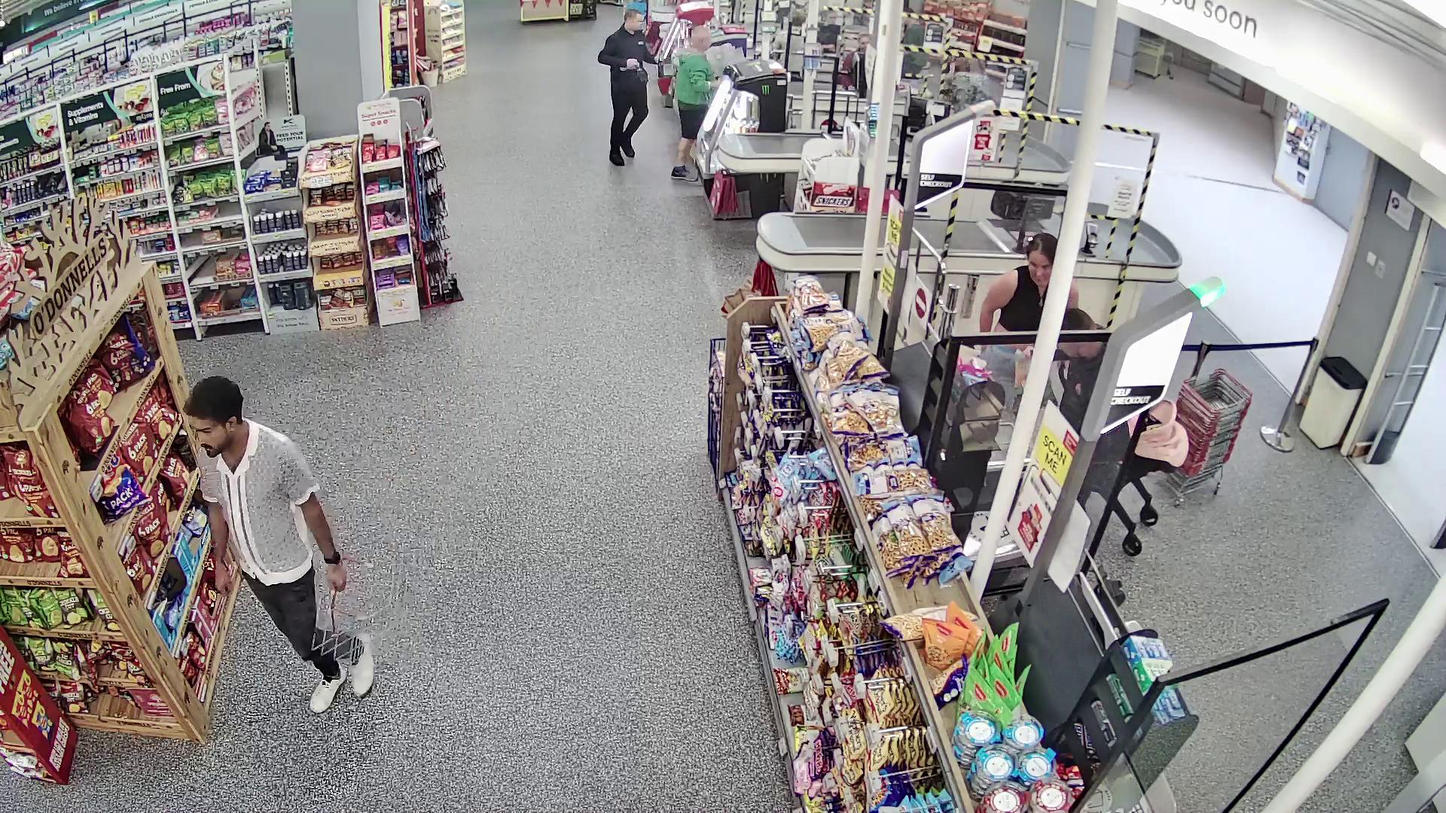empty-basket: (312, 560, 409, 664)
person: (183, 376, 375, 713)
person-with-empty-basket-trolly: (184, 375, 409, 712)
